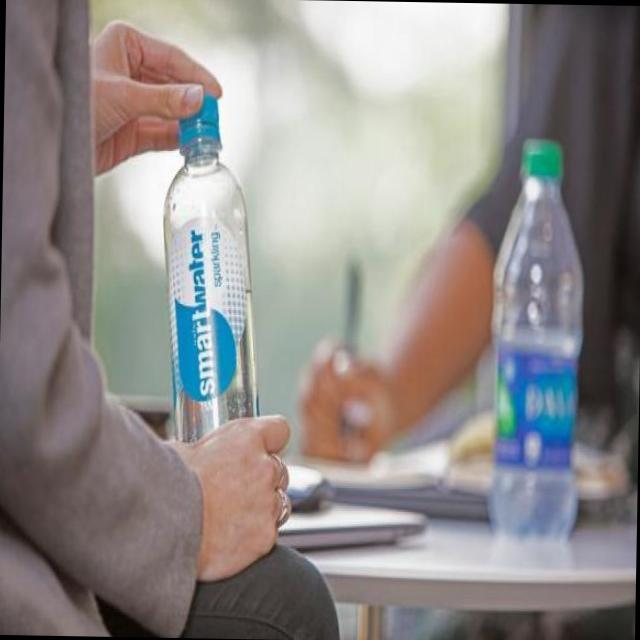plastic_bottle: (485, 137, 586, 545), (159, 92, 266, 444)
